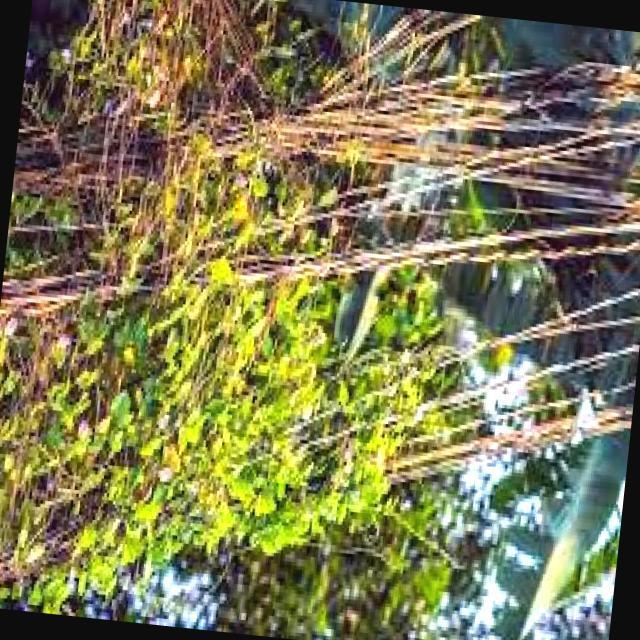critical vegetation: (0, 63, 493, 632)
